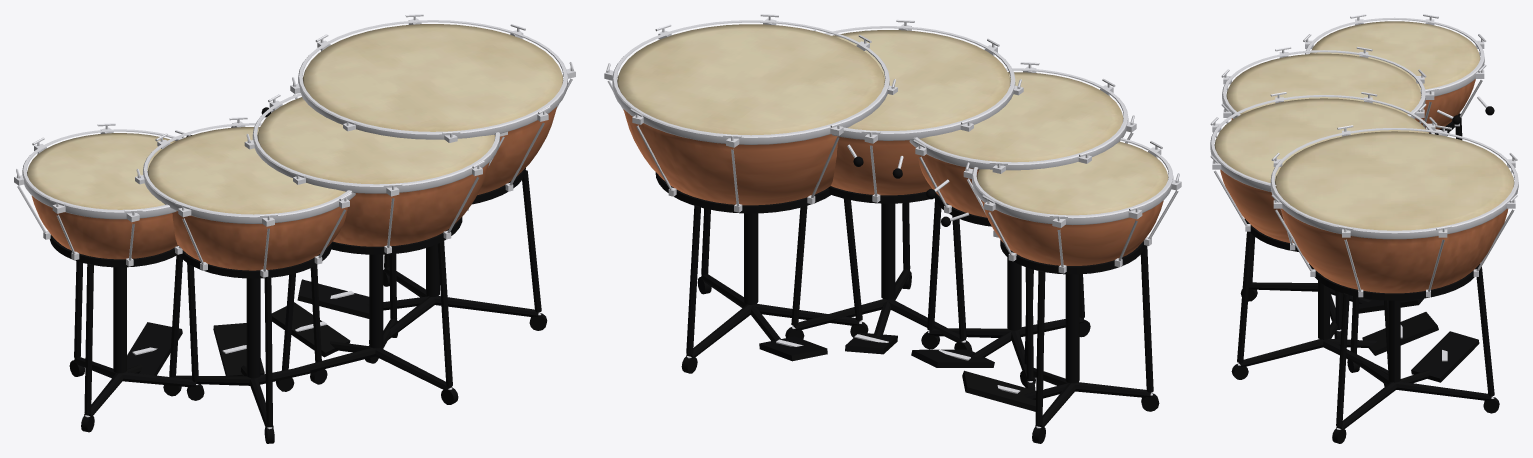
The model's file is timpani.glb.
3 renders of one model, left to right at view 1: azimuth 30°, elevation 25°; view 2: azimuth 150°, elevation 25°; view 3: azimuth 270°, elevation 25°, orthographic. The views are drawn at different scales.
Visible parts, largest first — view 1: floor_calfskin, floor_black, floor_copper, floor_chrome; view 2: floor_calfskin, floor_black, floor_copper, floor_chrome; view 3: floor_calfskin, floor_black, floor_copper, floor_chrome.
Boxes of the visible parts, <box> form: floor_calfskin: <box>27,24,562,214</box>; floor_black: <box>49,107,547,443</box>; floor_copper: <box>31,106,557,270</box>; floor_chrome: <box>14,14,575,429</box>; floor_calfskin: <box>617,24,1168,215</box>; floor_black: <box>655,156,1159,443</box>; floor_copper: <box>623,109,1163,265</box>; floor_chrome: <box>604,14,1181,428</box>; floor_calfskin: <box>1214,21,1514,230</box>; floor_black: <box>1231,106,1499,443</box>; floor_copper: <box>1220,79,1508,293</box>; floor_chrome: <box>1210,14,1518,429</box>.
Bounding box in the file's own units: 1.87 × 0.876 × 1.05.
4 materials, 2 textured.
